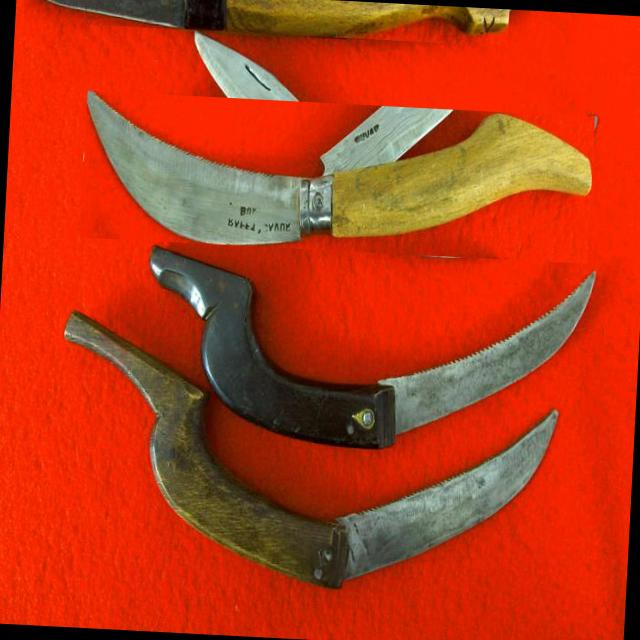Knife: (65, 314, 558, 587), (150, 246, 594, 448), (88, 91, 591, 245), (195, 32, 355, 176), (46, 0, 509, 35)
